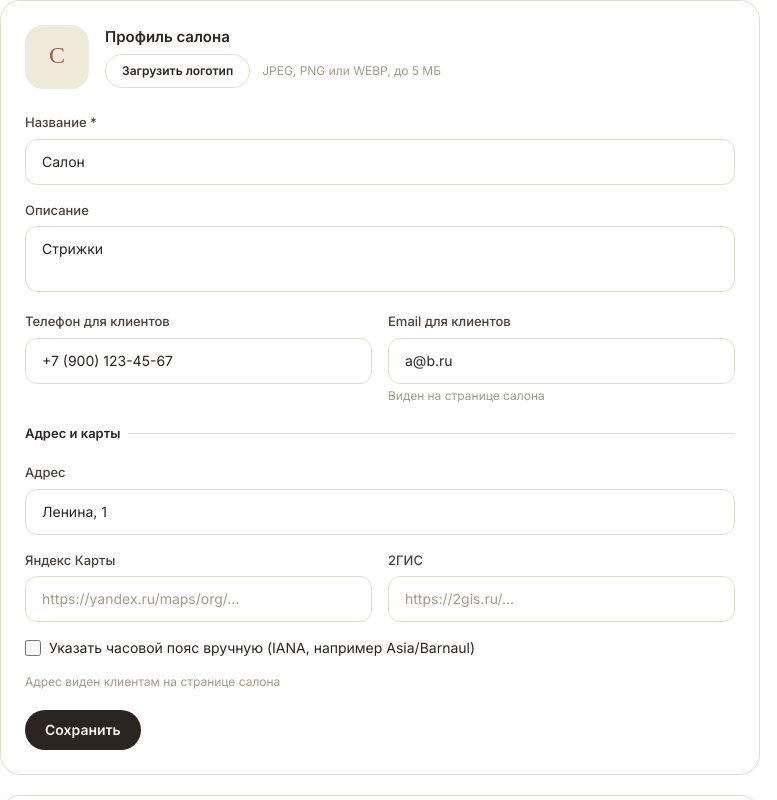
Test: QA32 — US-32-02 сохранение профиля одной кнопкой › QA32-16: набранный текст не теряется, когда my-companies перечитывается с сервера
This screenshot has width=777, height=800.
Type " Черновик" into the field labelled "Название *".
click(380, 162); type(" Черновик")  # box top-left (25, 138), bottom-right (735, 184)
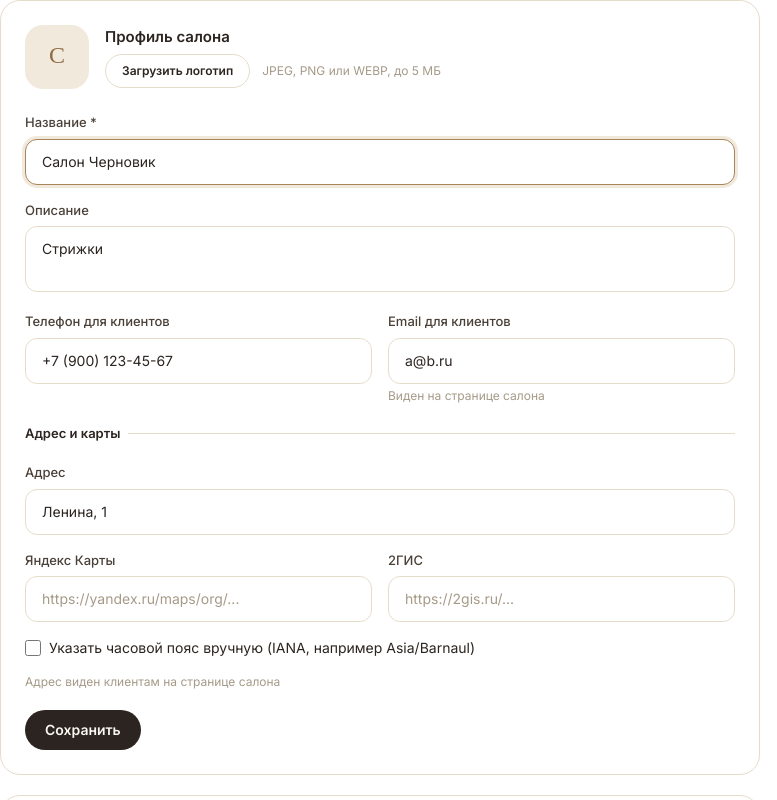
Now the field labelled "Название *" holds "Салон Черновик", box top-left (25, 138), bottom-right (735, 184)
